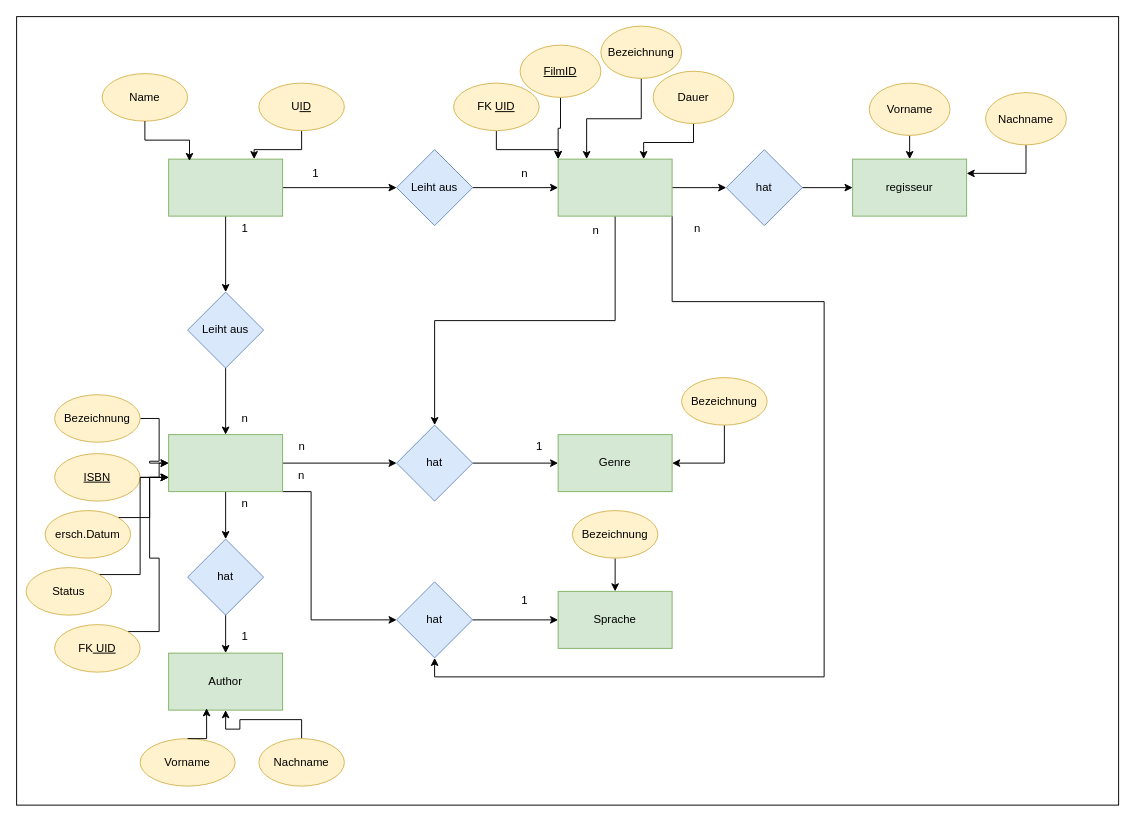
The diagram is 1135 pixels wide and 822 high, and some of its shapes have lost their labels. The centre of each missing label's shape, as x and y in pixels:
"Buch" belongs at point 225,463.
"Film" belongs at point 614,187.
"User" belongs at point 225,187.
